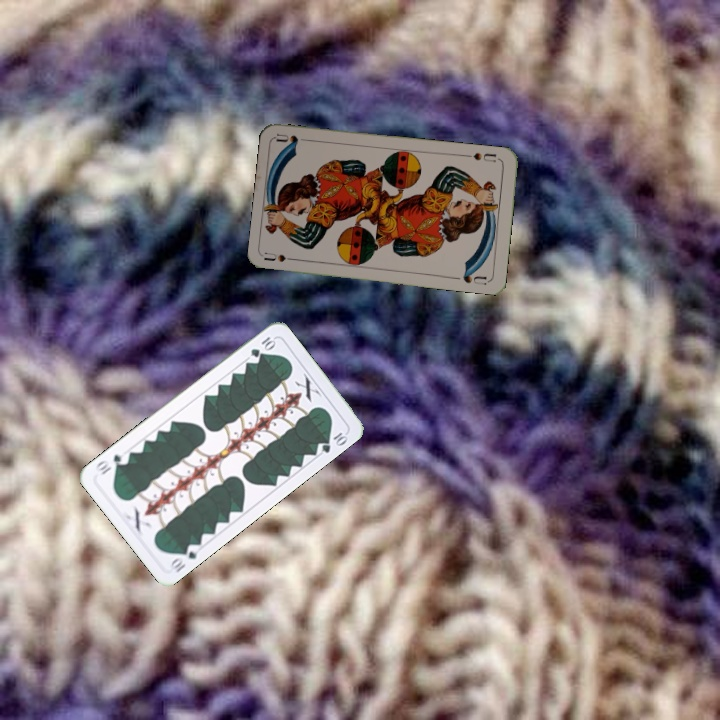G10: (167, 540, 203, 576), (246, 332, 278, 360)
SU: (462, 148, 499, 165), (262, 249, 302, 264)
